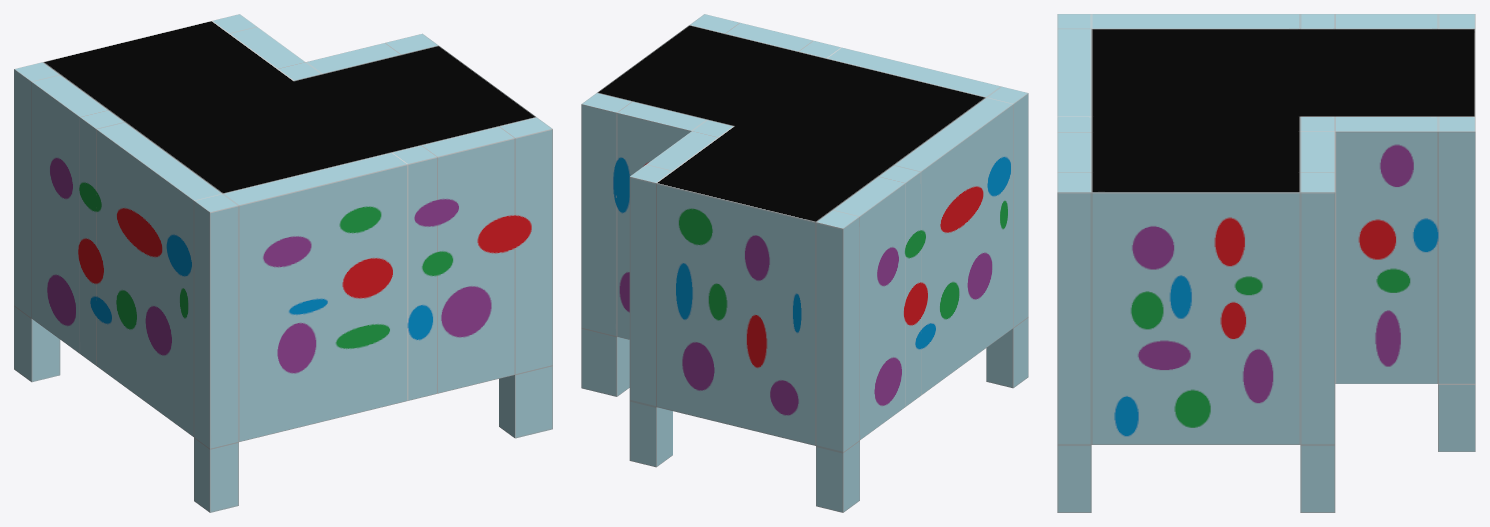
Rendered from angleconveyorbelt.fbx.
3 renders of one model, left to right at view 1: azimuth 30°, elevation 25°; view 2: azimuth 150°, elevation 25°; view 3: azimuth 270°, elevation 25°, orthographic. The views are drawn at different scales.
Visible parts, largest first — view 1: pCube1; view 2: pCube1; view 3: pCube1.
Boxes of the visible parts, x1,y1,x2,y2 form: pCube1: (14, 14, 552, 512); pCube1: (581, 14, 1028, 512); pCube1: (1057, 14, 1475, 512).
Bounding box in the file's own units: 1.51 × 1.27 × 1.5.
